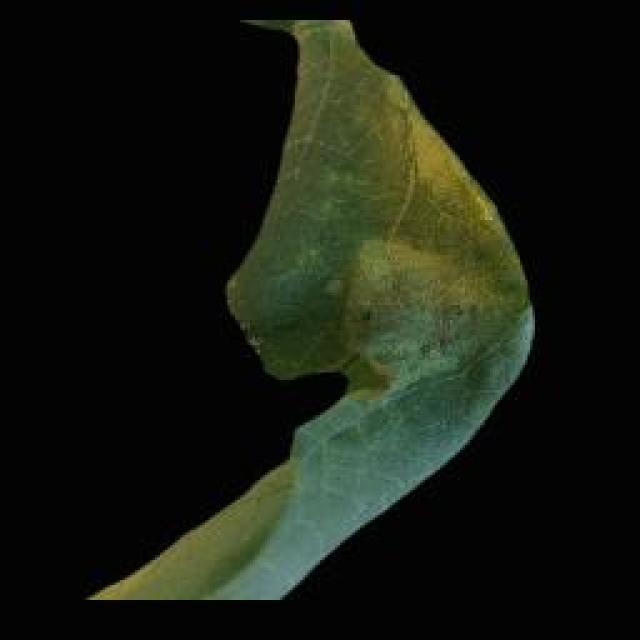Tomato Late Blight: (297, 68, 498, 510)
